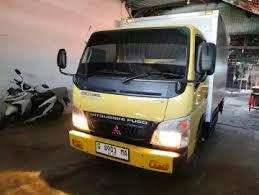truck: (52, 11, 225, 183)
